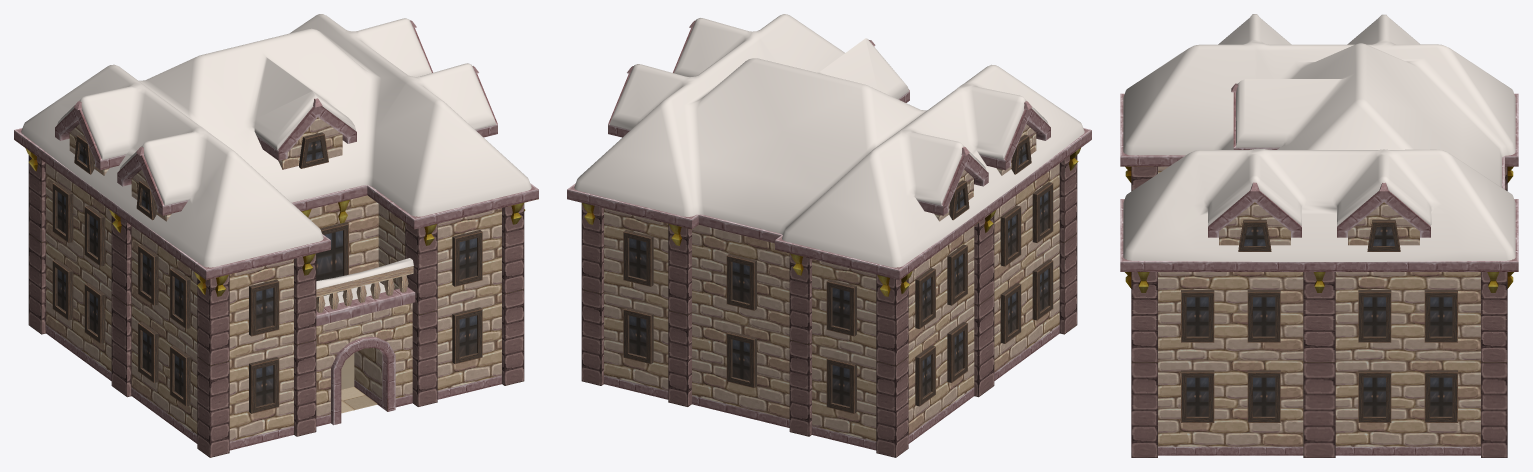
The model's file is Mansion - Snow.fbx.
3 views of the same model, side by side, from view 1: azimuth 30°, elevation 25°; view 2: azimuth 150°, elevation 25°; view 3: azimuth 270°, elevation 25° (orthographic). The views are drawn at different scales.
Parts seen in each view (by area): view 1: obj; view 2: obj; view 3: obj.
Part boxes in pixels (x1,y1,x2,y2): obj: [14, 14, 538, 457]; obj: [567, 14, 1091, 457]; obj: [1120, 14, 1518, 457].
Size of the model in its own units: 7.34 by 6.12 by 7.2.
